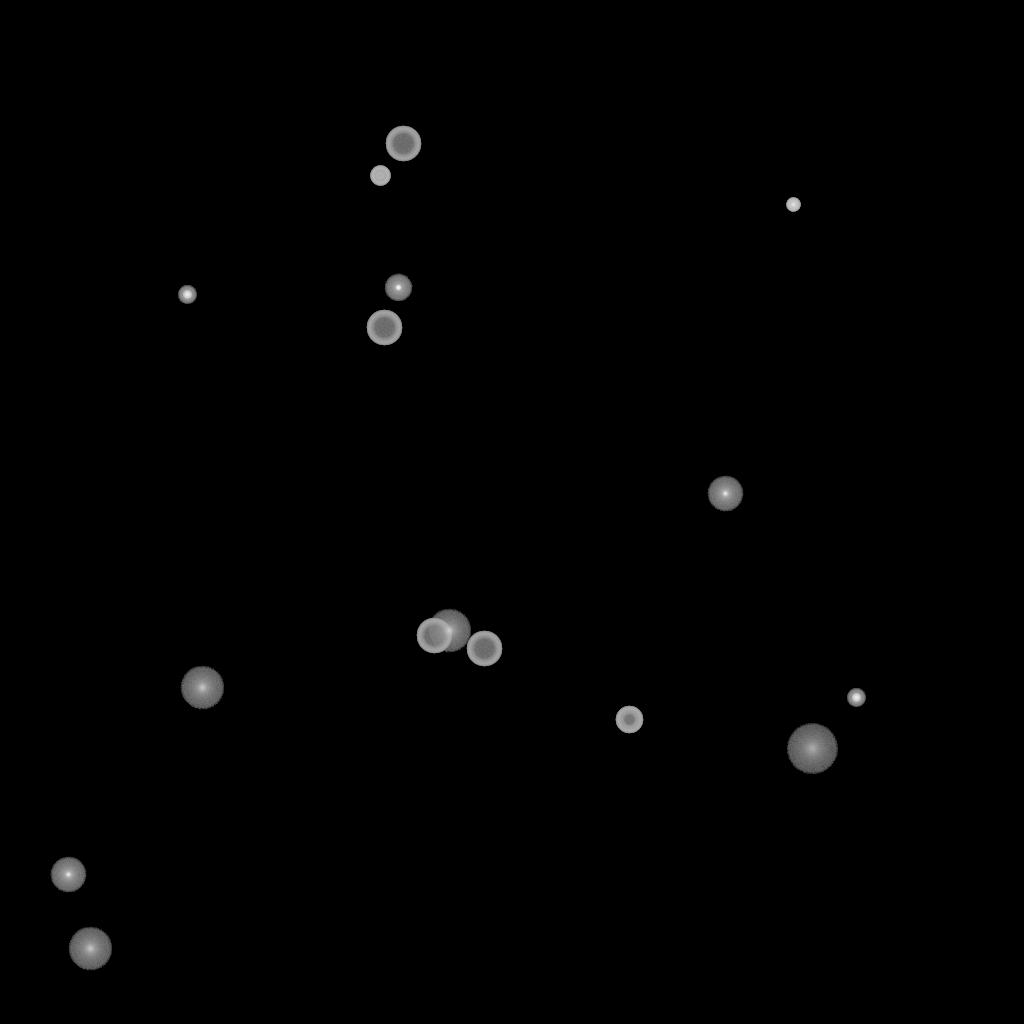depth:-10: (384, 274, 412, 302)
depth:-20: (847, 689, 865, 707), (178, 286, 196, 304)
depth:-30: (786, 198, 800, 212)
depth:-40: (370, 166, 390, 186)
depth:-50: (615, 706, 643, 734)
depth:-60: (366, 310, 402, 346), (466, 631, 502, 667), (416, 618, 452, 654), (385, 126, 421, 162)
depth:0: (50, 857, 86, 893), (707, 476, 743, 512)
depth:10: (180, 666, 224, 710), (68, 927, 112, 971), (427, 609, 471, 653)
depth:20: (786, 724, 838, 774)
